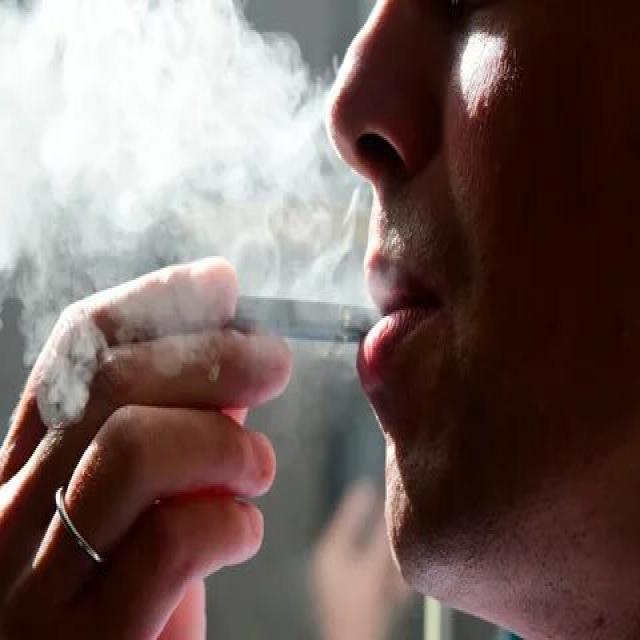cigarette: (227, 294, 396, 346)
